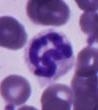N: (24, 30, 74, 82)
